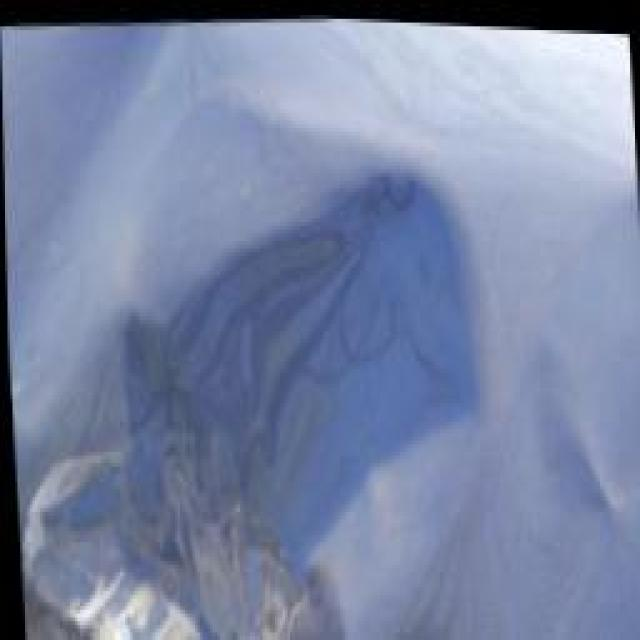Bonnet: (42, 102, 495, 638)
